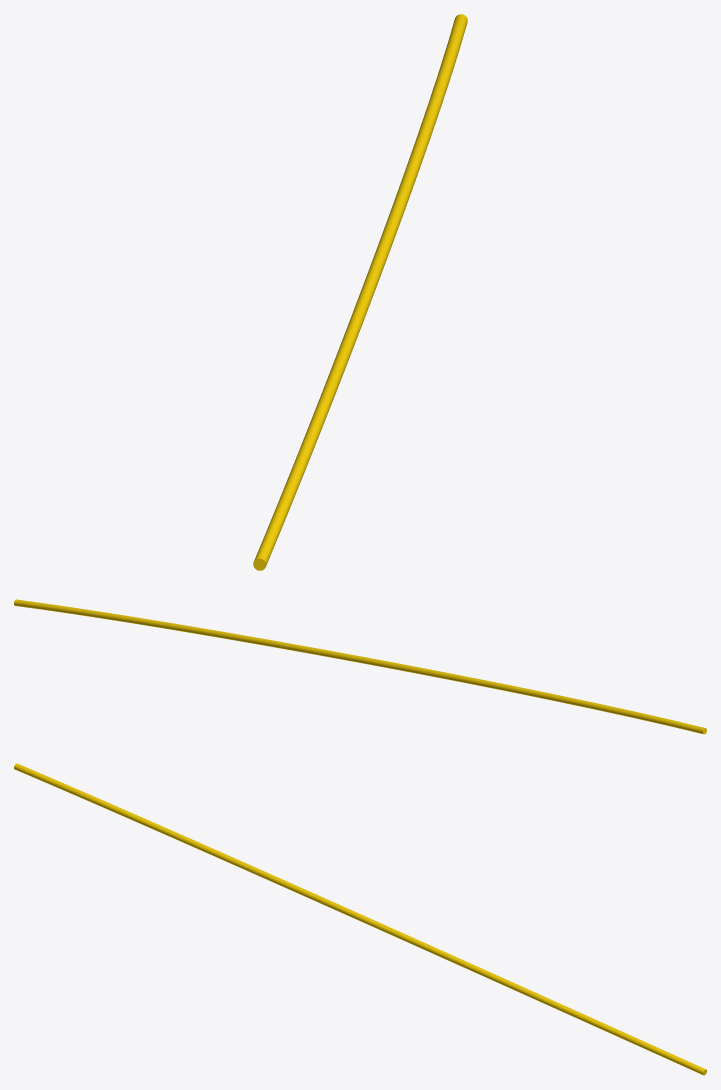
Rendered from Event_421115418_track_66.fbx.
3 renders of one model, top to bottom at view 1: azimuth 90°, elevation 25°; view 2: azimuth 150°, elevation 25°; view 3: azimuth 330°, elevation 25°, orthographic. The views are drawn at different scales.
Parts seen in each view (by area): view 1: Model; view 2: Model; view 3: Model.
Part boxes in pixels (bbox=[...]): Model: bbox=[253, 14, 467, 570]; Model: bbox=[14, 599, 706, 734]; Model: bbox=[14, 763, 706, 1075].
Size of the model in its own units: 5.19 by 0.6343 by 0.6517.
